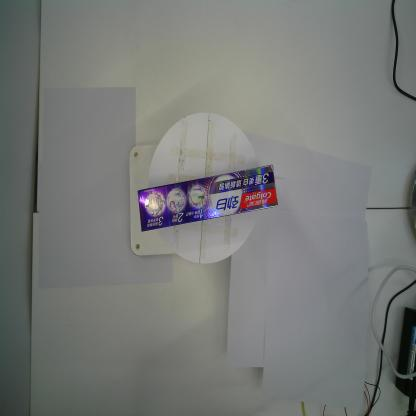Personal Hygiene: (136, 163, 280, 236)
